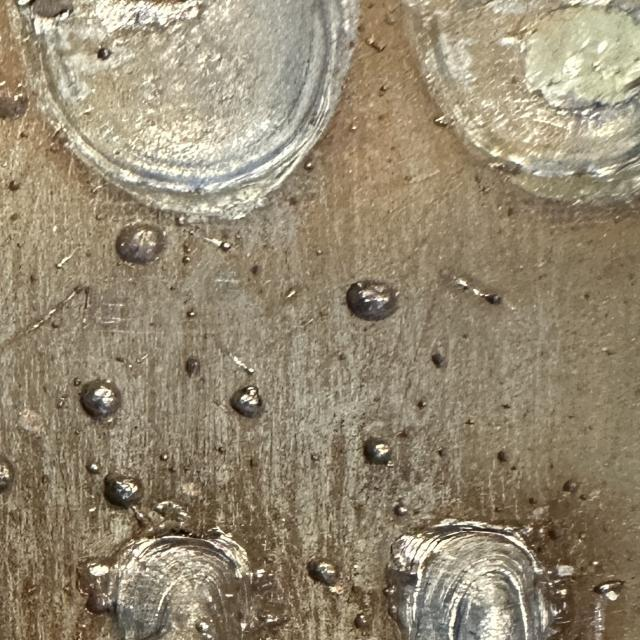Excess Reinforcement: (388, 534, 438, 579), (77, 559, 115, 614), (129, 502, 185, 539), (383, 583, 415, 639), (432, 352, 448, 369)
Spatters: (115, 222, 165, 264), (347, 280, 397, 321), (80, 380, 122, 419), (103, 474, 143, 509), (230, 385, 265, 419), (363, 436, 392, 464), (307, 561, 338, 586), (593, 580, 625, 601), (0, 456, 15, 493), (232, 355, 255, 374), (205, 238, 232, 251), (353, 612, 372, 629), (185, 356, 200, 376), (197, 621, 212, 640), (562, 479, 580, 492), (484, 294, 502, 305), (95, 46, 110, 59), (85, 462, 100, 475), (393, 504, 408, 516), (175, 215, 187, 226), (8, 180, 20, 191), (497, 450, 507, 462), (417, 400, 427, 409), (310, 452, 320, 461), (287, 290, 297, 298), (305, 161, 313, 170), (182, 257, 190, 264), (187, 311, 195, 318), (160, 454, 168, 461)
